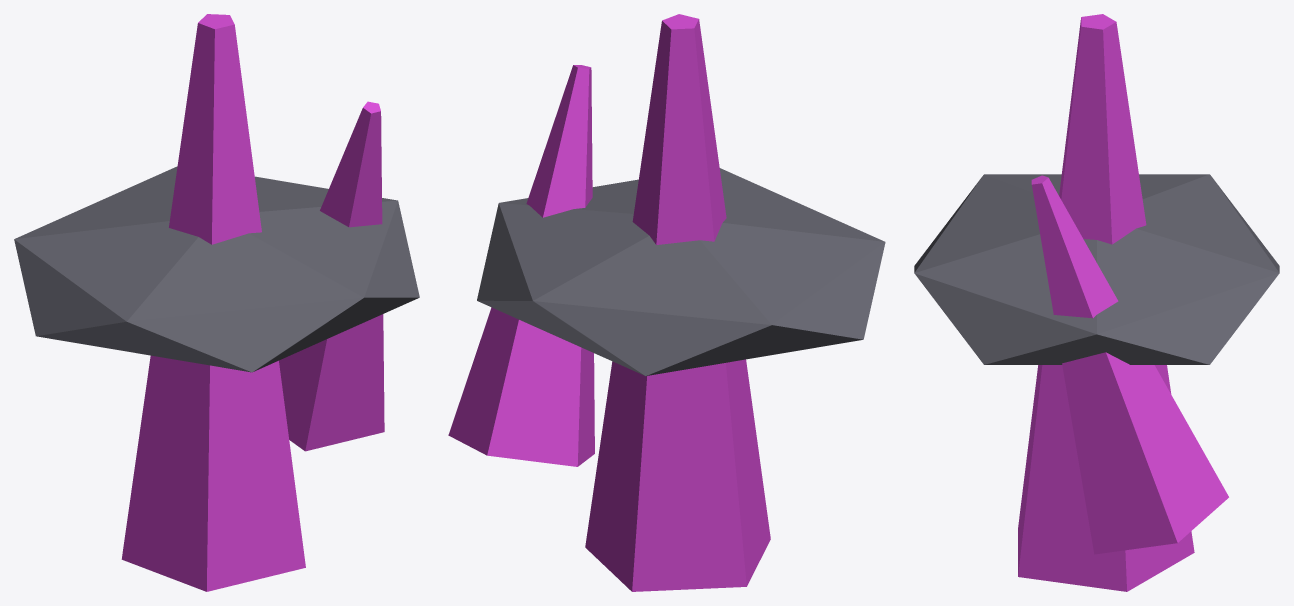
File: crystal_pink.glb
3 views of the same model, side by side, from view 1: azimuth 30°, elevation 25°; view 2: azimuth 150°, elevation 25°; view 3: azimuth 270°, elevation 25° (orthographic).
Visible parts, largest first — view 1: crystal_pink; view 2: crystal_pink; view 3: crystal_pink.
Boxes of the visible parts, <box> form: crystal_pink: <box>14,14,419,591</box>; crystal_pink: <box>448,14,885,591</box>; crystal_pink: <box>914,14,1279,591</box>.
Bounding box in the file's own units: 0.4407 × 0.6 × 0.3743.
